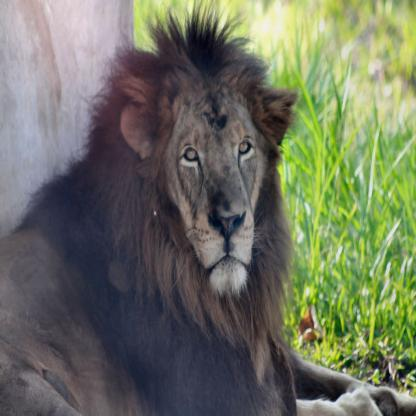lion: (112, 54, 300, 325)
